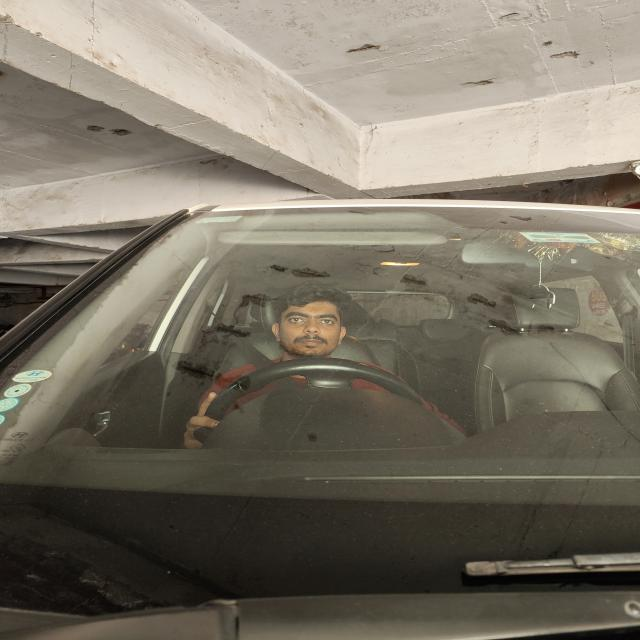seatbelt: (190, 290, 450, 453)
